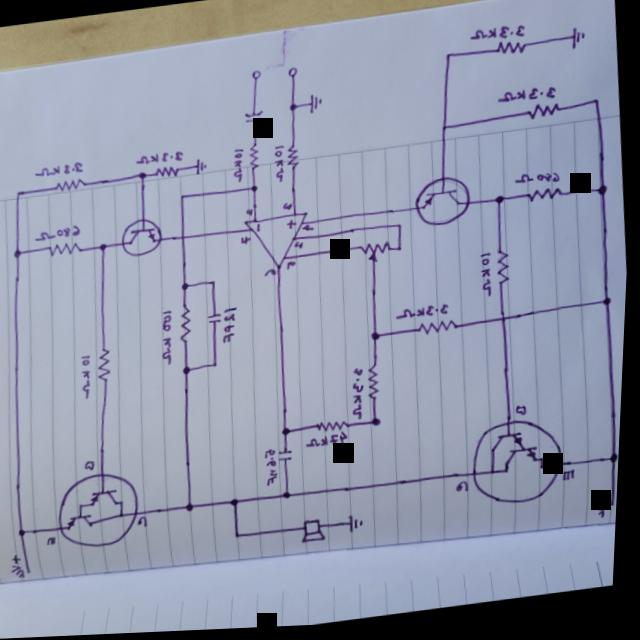capacitor: (242, 111, 267, 136), (279, 450, 297, 466), (208, 312, 225, 328)
crossover: (498, 316, 512, 330), (178, 234, 189, 244)
ground: (567, 29, 586, 55), (349, 515, 370, 537), (306, 94, 324, 118), (194, 155, 210, 178)
junction: (371, 418, 385, 431), (596, 188, 609, 201), (370, 333, 383, 346), (601, 300, 614, 313), (494, 197, 507, 210), (135, 171, 149, 183), (247, 183, 259, 197), (186, 503, 199, 515), (12, 247, 24, 260), (98, 242, 110, 254), (183, 366, 194, 378), (232, 498, 243, 510), (284, 492, 296, 503), (283, 428, 294, 440), (590, 101, 602, 112), (287, 104, 298, 115), (610, 458, 621, 469), (181, 282, 192, 293), (20, 527, 31, 538), (235, 532, 246, 543), (394, 223, 405, 234), (439, 126, 450, 137), (442, 54, 453, 64), (13, 188, 24, 198), (178, 193, 188, 203), (209, 279, 219, 289), (396, 247, 406, 256), (212, 362, 221, 371)
resistor: (357, 241, 394, 267), (492, 250, 514, 292), (417, 320, 460, 341), (524, 104, 563, 127), (525, 188, 566, 209), (44, 239, 84, 260), (177, 305, 197, 346), (95, 347, 115, 385), (365, 367, 384, 405), (493, 42, 527, 62), (53, 176, 86, 195), (317, 420, 352, 437), (246, 143, 263, 175), (151, 164, 181, 181), (285, 147, 301, 172)
terminal: (249, 71, 262, 84), (286, 68, 298, 82), (611, 505, 619, 514), (29, 569, 36, 576)
text: (495, 88, 557, 112), (467, 26, 525, 49), (397, 305, 452, 326), (350, 369, 370, 423), (159, 312, 178, 368), (306, 432, 352, 455), (34, 160, 85, 180), (135, 149, 186, 169), (34, 223, 83, 243), (477, 255, 497, 302), (514, 173, 562, 192), (220, 307, 242, 347), (79, 354, 97, 401), (264, 450, 284, 489), (229, 148, 247, 186), (270, 146, 287, 184), (13, 553, 30, 581), (595, 497, 612, 525), (562, 473, 580, 488), (457, 483, 474, 498), (516, 406, 531, 422), (84, 458, 100, 473), (239, 235, 254, 249), (138, 516, 152, 530), (262, 269, 279, 280), (280, 202, 294, 215), (285, 260, 298, 274), (301, 224, 316, 236), (293, 243, 306, 254), (50, 535, 61, 547), (246, 210, 255, 218)
transistor: (464, 412, 576, 518), (52, 467, 148, 558), (412, 176, 474, 234), (119, 215, 166, 263)
